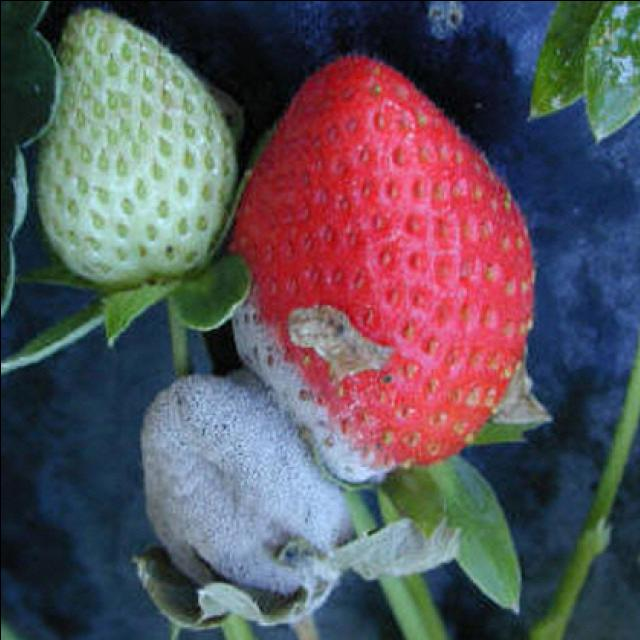Gray Mold: (223, 55, 537, 480), (134, 370, 364, 631)
